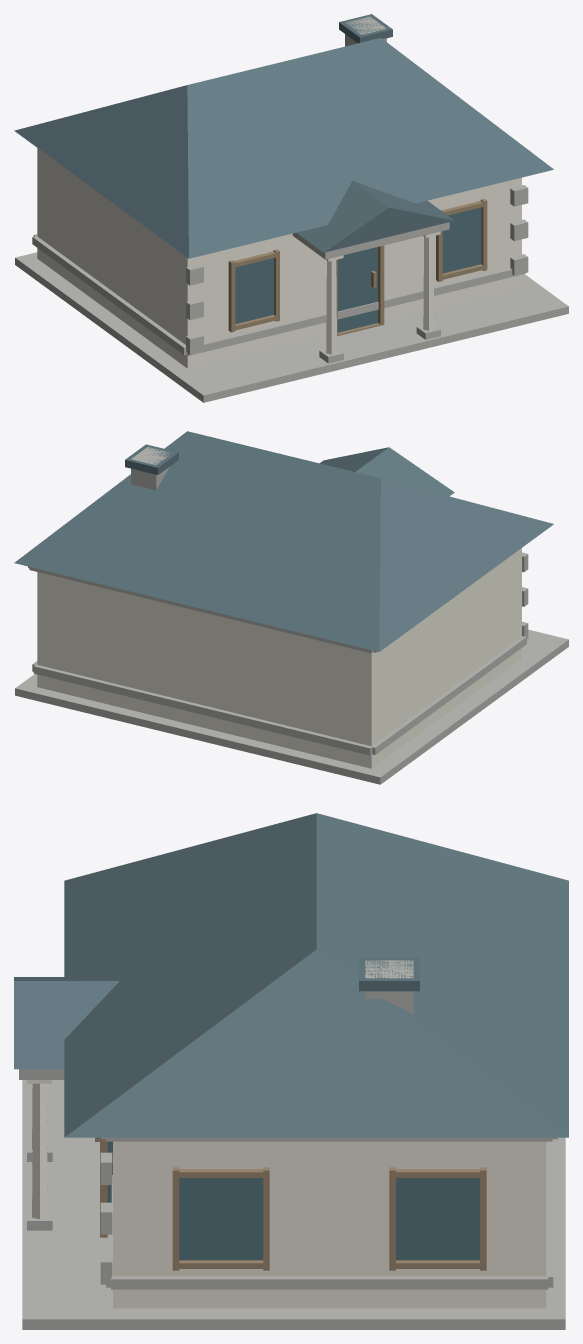
Rendered from house_small_02.glb.
3 views of the same model, one above another, from view 1: azimuth 30°, elevation 25°; view 2: azimuth 150°, elevation 25°; view 3: azimuth 270°, elevation 25° (orthographic). The views are drawn at different scales.
Parts seen in each view (by area): view 1: House_small_02; view 2: House_small_02; view 3: House_small_02.
Boxes of the visible parts, x1=… form: House_small_02: x1=14, y1=14, x2=568, y2=402; House_small_02: x1=14, y1=431, x2=568, y2=784; House_small_02: x1=14, y1=813, x2=568, y2=1329.
Bounding box in the file's own units: 9.4 × 5.46 × 8.58.
